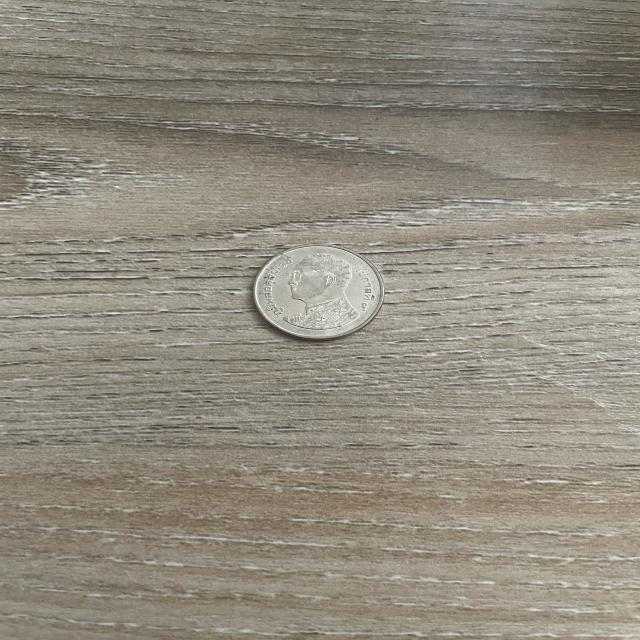1 Bath: (245, 238, 393, 348)
